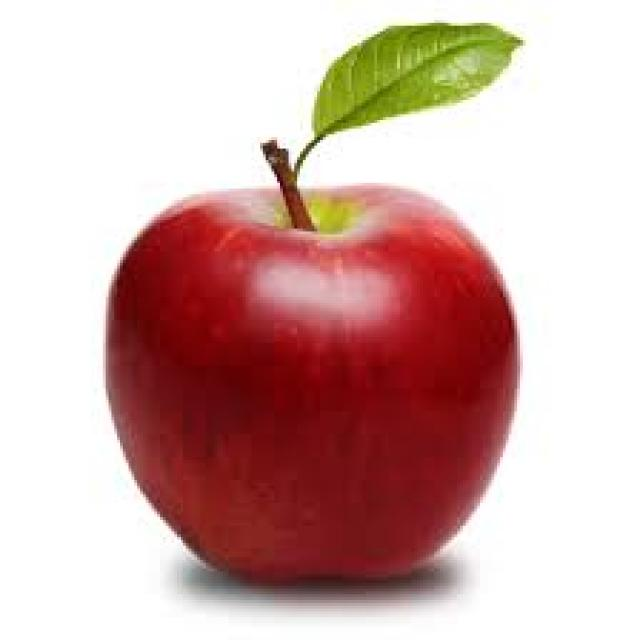organic waste: (100, 183, 514, 583), (309, 20, 517, 131)
